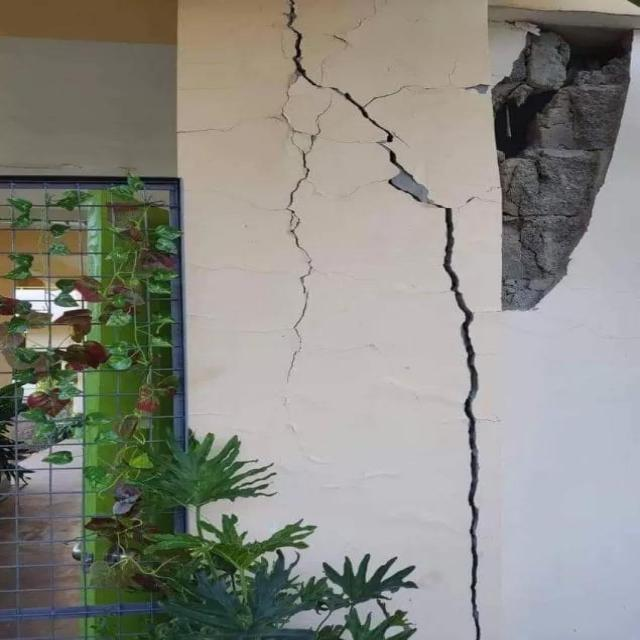damage: (263, 0, 504, 640), (487, 4, 637, 336)
